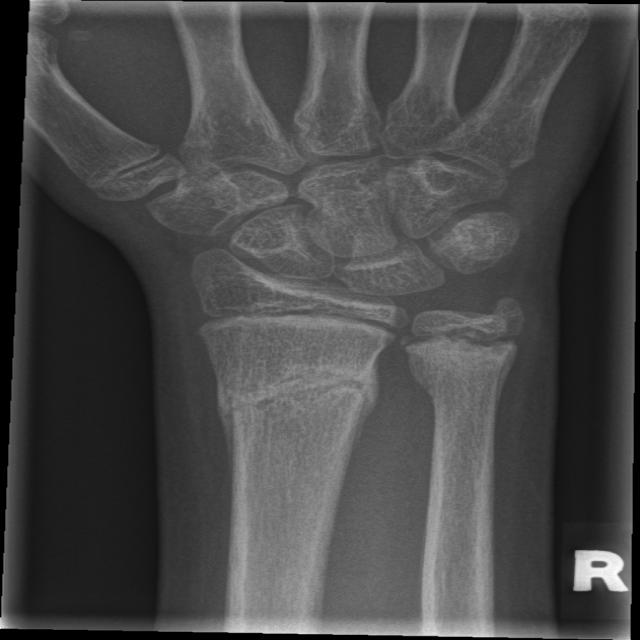radius fracture: (187, 340, 387, 508)
ulna fracture: (397, 289, 531, 425)
